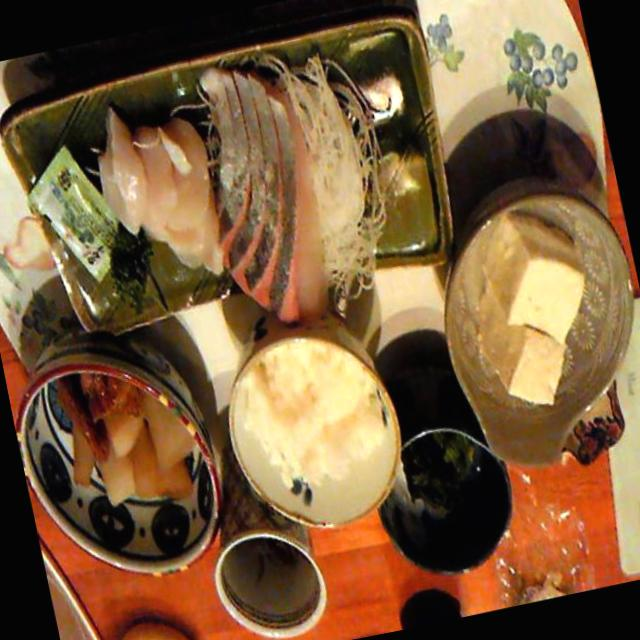Rice: (224, 330, 410, 518)
